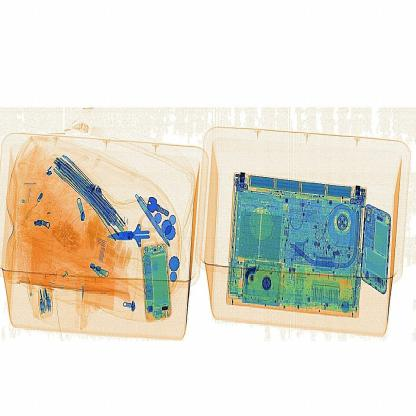gun: (107, 199, 172, 262)
